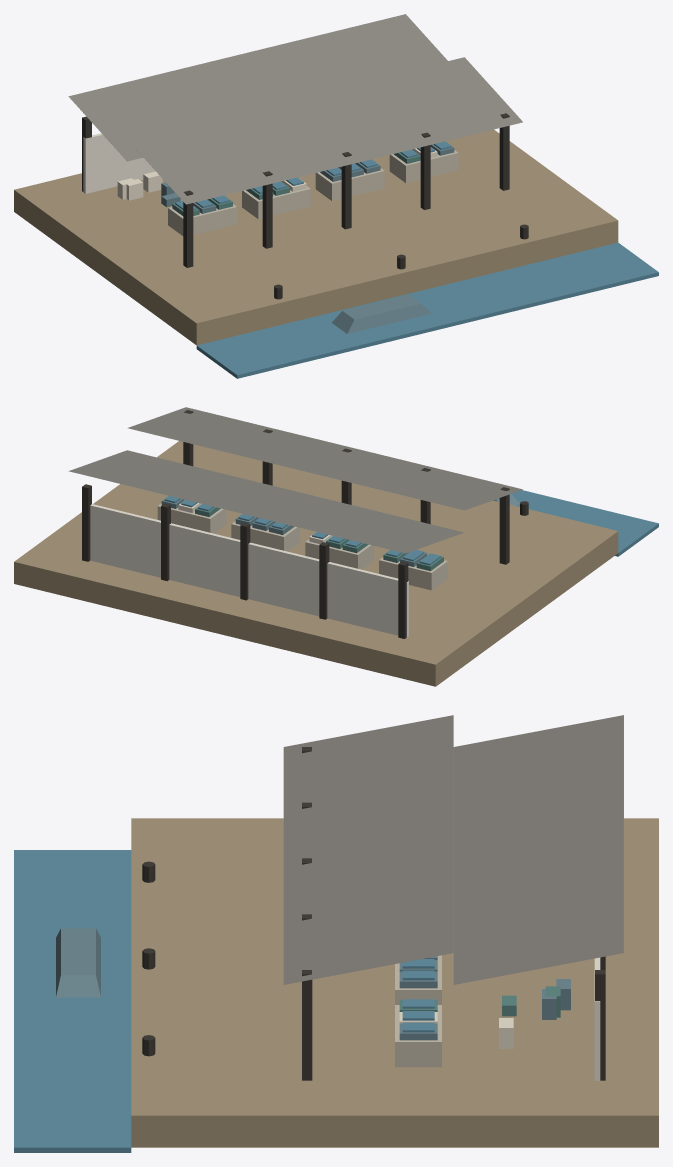
The model's file is liman-balik-hali.glb.
3 renders of one model, top to bottom at view 1: azimuth 30°, elevation 25°; view 2: azimuth 150°, elevation 25°; view 3: azimuth 270°, elevation 25°, orthographic. The views are drawn at different scales.
Parts seen in each view (by area): view 1: tas_koyu, sac, deniz, beton, demir, deniz_ahsap, badana, bez, kepenk2; view 2: tas_koyu, sac, badana, demir, beton, deniz, kepenk2, deniz_ahsap; view 3: tas_koyu, sac, deniz, deniz_ahsap, demir, beton, kepenk2, badana, bez.
Boxes of the visible parts, bbox=[...] form: tas_koyu: bbox=[14, 129, 618, 345]; sac: bbox=[68, 14, 522, 204]; deniz: bbox=[175, 141, 658, 378]; beton: bbox=[168, 150, 458, 235]; demir: bbox=[82, 113, 528, 299]; deniz_ahsap: bbox=[161, 141, 454, 333]; badana: bbox=[83, 133, 155, 193]; bez: bbox=[117, 147, 437, 200]; kepenk2: bbox=[172, 150, 420, 215]; tas_koyu: bbox=[14, 441, 618, 686]; sac: bbox=[68, 407, 522, 553]; badana: bbox=[90, 504, 408, 637]; demir: bbox=[82, 410, 528, 638]; beton: bbox=[157, 503, 447, 590]; deniz: bbox=[164, 490, 658, 565]; kepenk2: bbox=[195, 504, 443, 570]; deniz_ahsap: bbox=[161, 494, 519, 566]; tas_koyu: bbox=[131, 818, 658, 1147]; sac: bbox=[283, 715, 623, 984]; deniz: bbox=[14, 850, 434, 1152]; deniz_ahsap: bbox=[56, 928, 570, 1040]; demir: bbox=[142, 747, 605, 1080]; beton: bbox=[395, 955, 441, 1067]; kepenk2: bbox=[399, 986, 560, 1017]; badana: bbox=[594, 957, 600, 1080]; bez: bbox=[399, 1012, 513, 1048].
Bounding box in the file's own units: 24 × 6.4 × 22.
